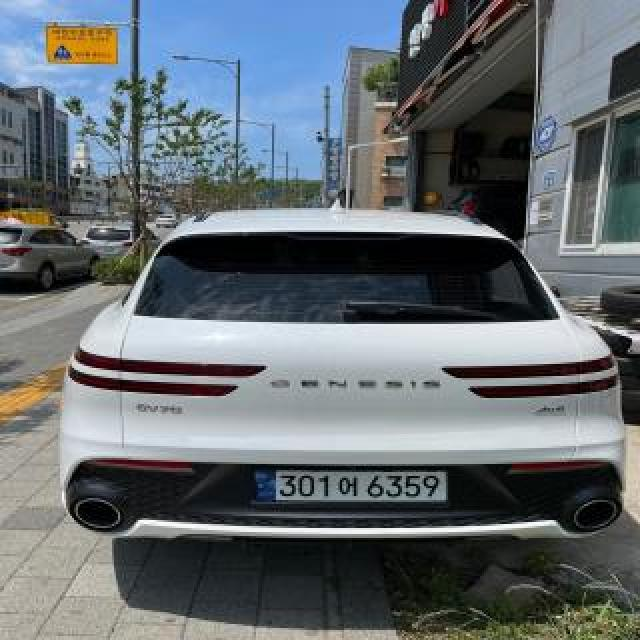car: (48, 201, 637, 563)
illegal_plate: (251, 464, 455, 516)
